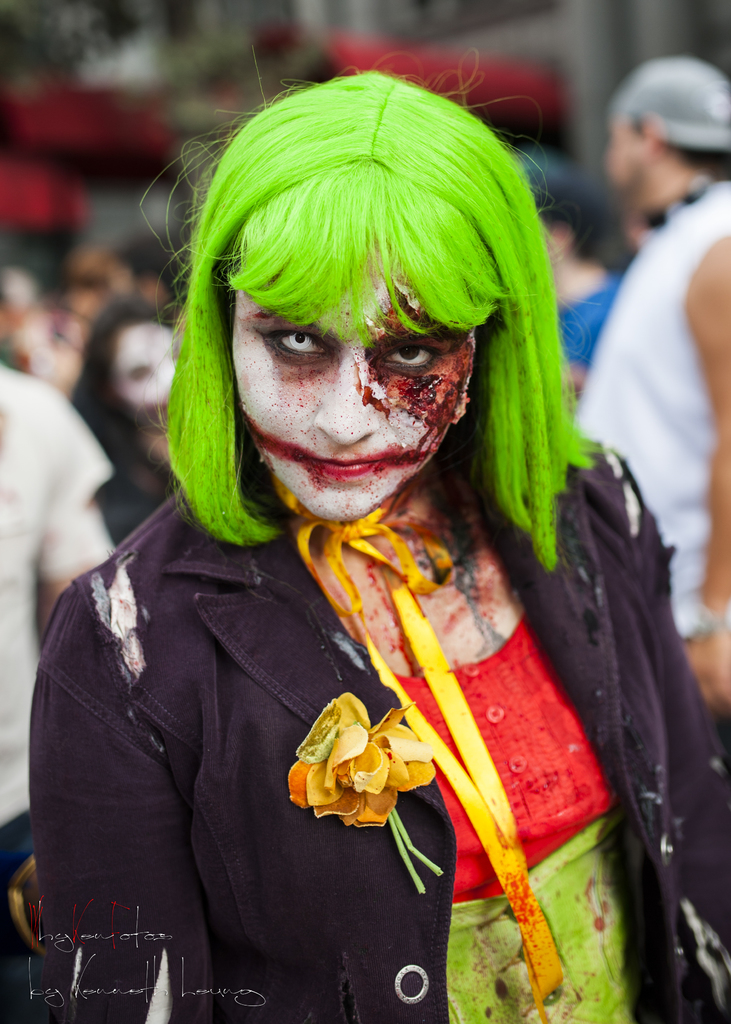person: (513, 145, 623, 411)
